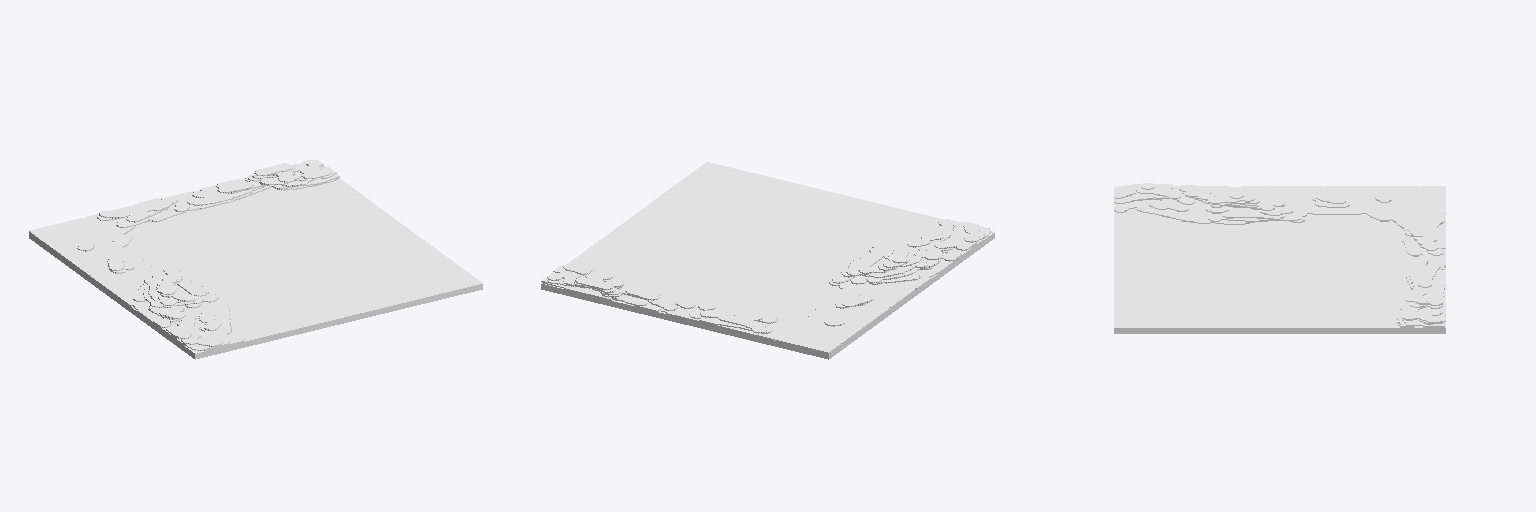
Rendered from land-sand-3.obj.
3 views of the same model, side by side, from view 1: azimuth 30°, elevation 25°; view 2: azimuth 150°, elevation 25°; view 3: azimuth 270°, elevation 25° (orthographic).
Parts seen in each view (by area): view 1: object 1; view 2: object 1; view 3: object 1.
Boxes of the visible parts, <box> form: object 1: <box>29,160,482,359</box>; object 1: <box>541,162,994,359</box>; object 1: <box>1114,183,1445,333</box>.
Bounding box in the file's own units: 25.6 × 1.3 × 25.6.